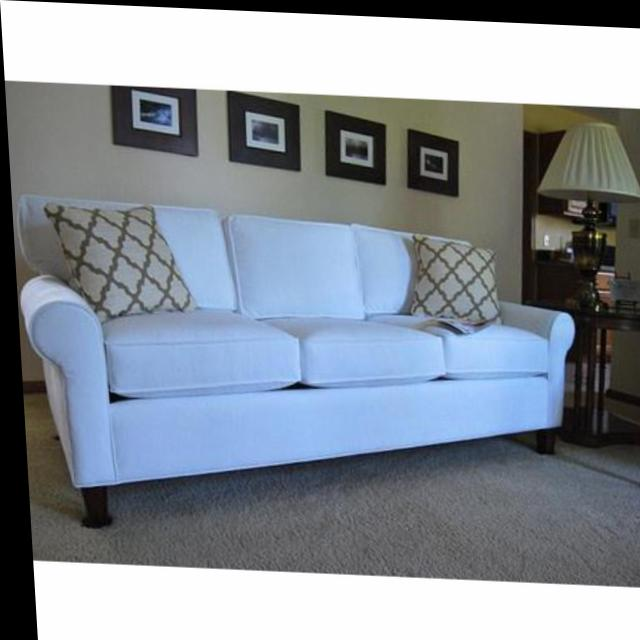Sofa: (16, 195, 585, 544)
